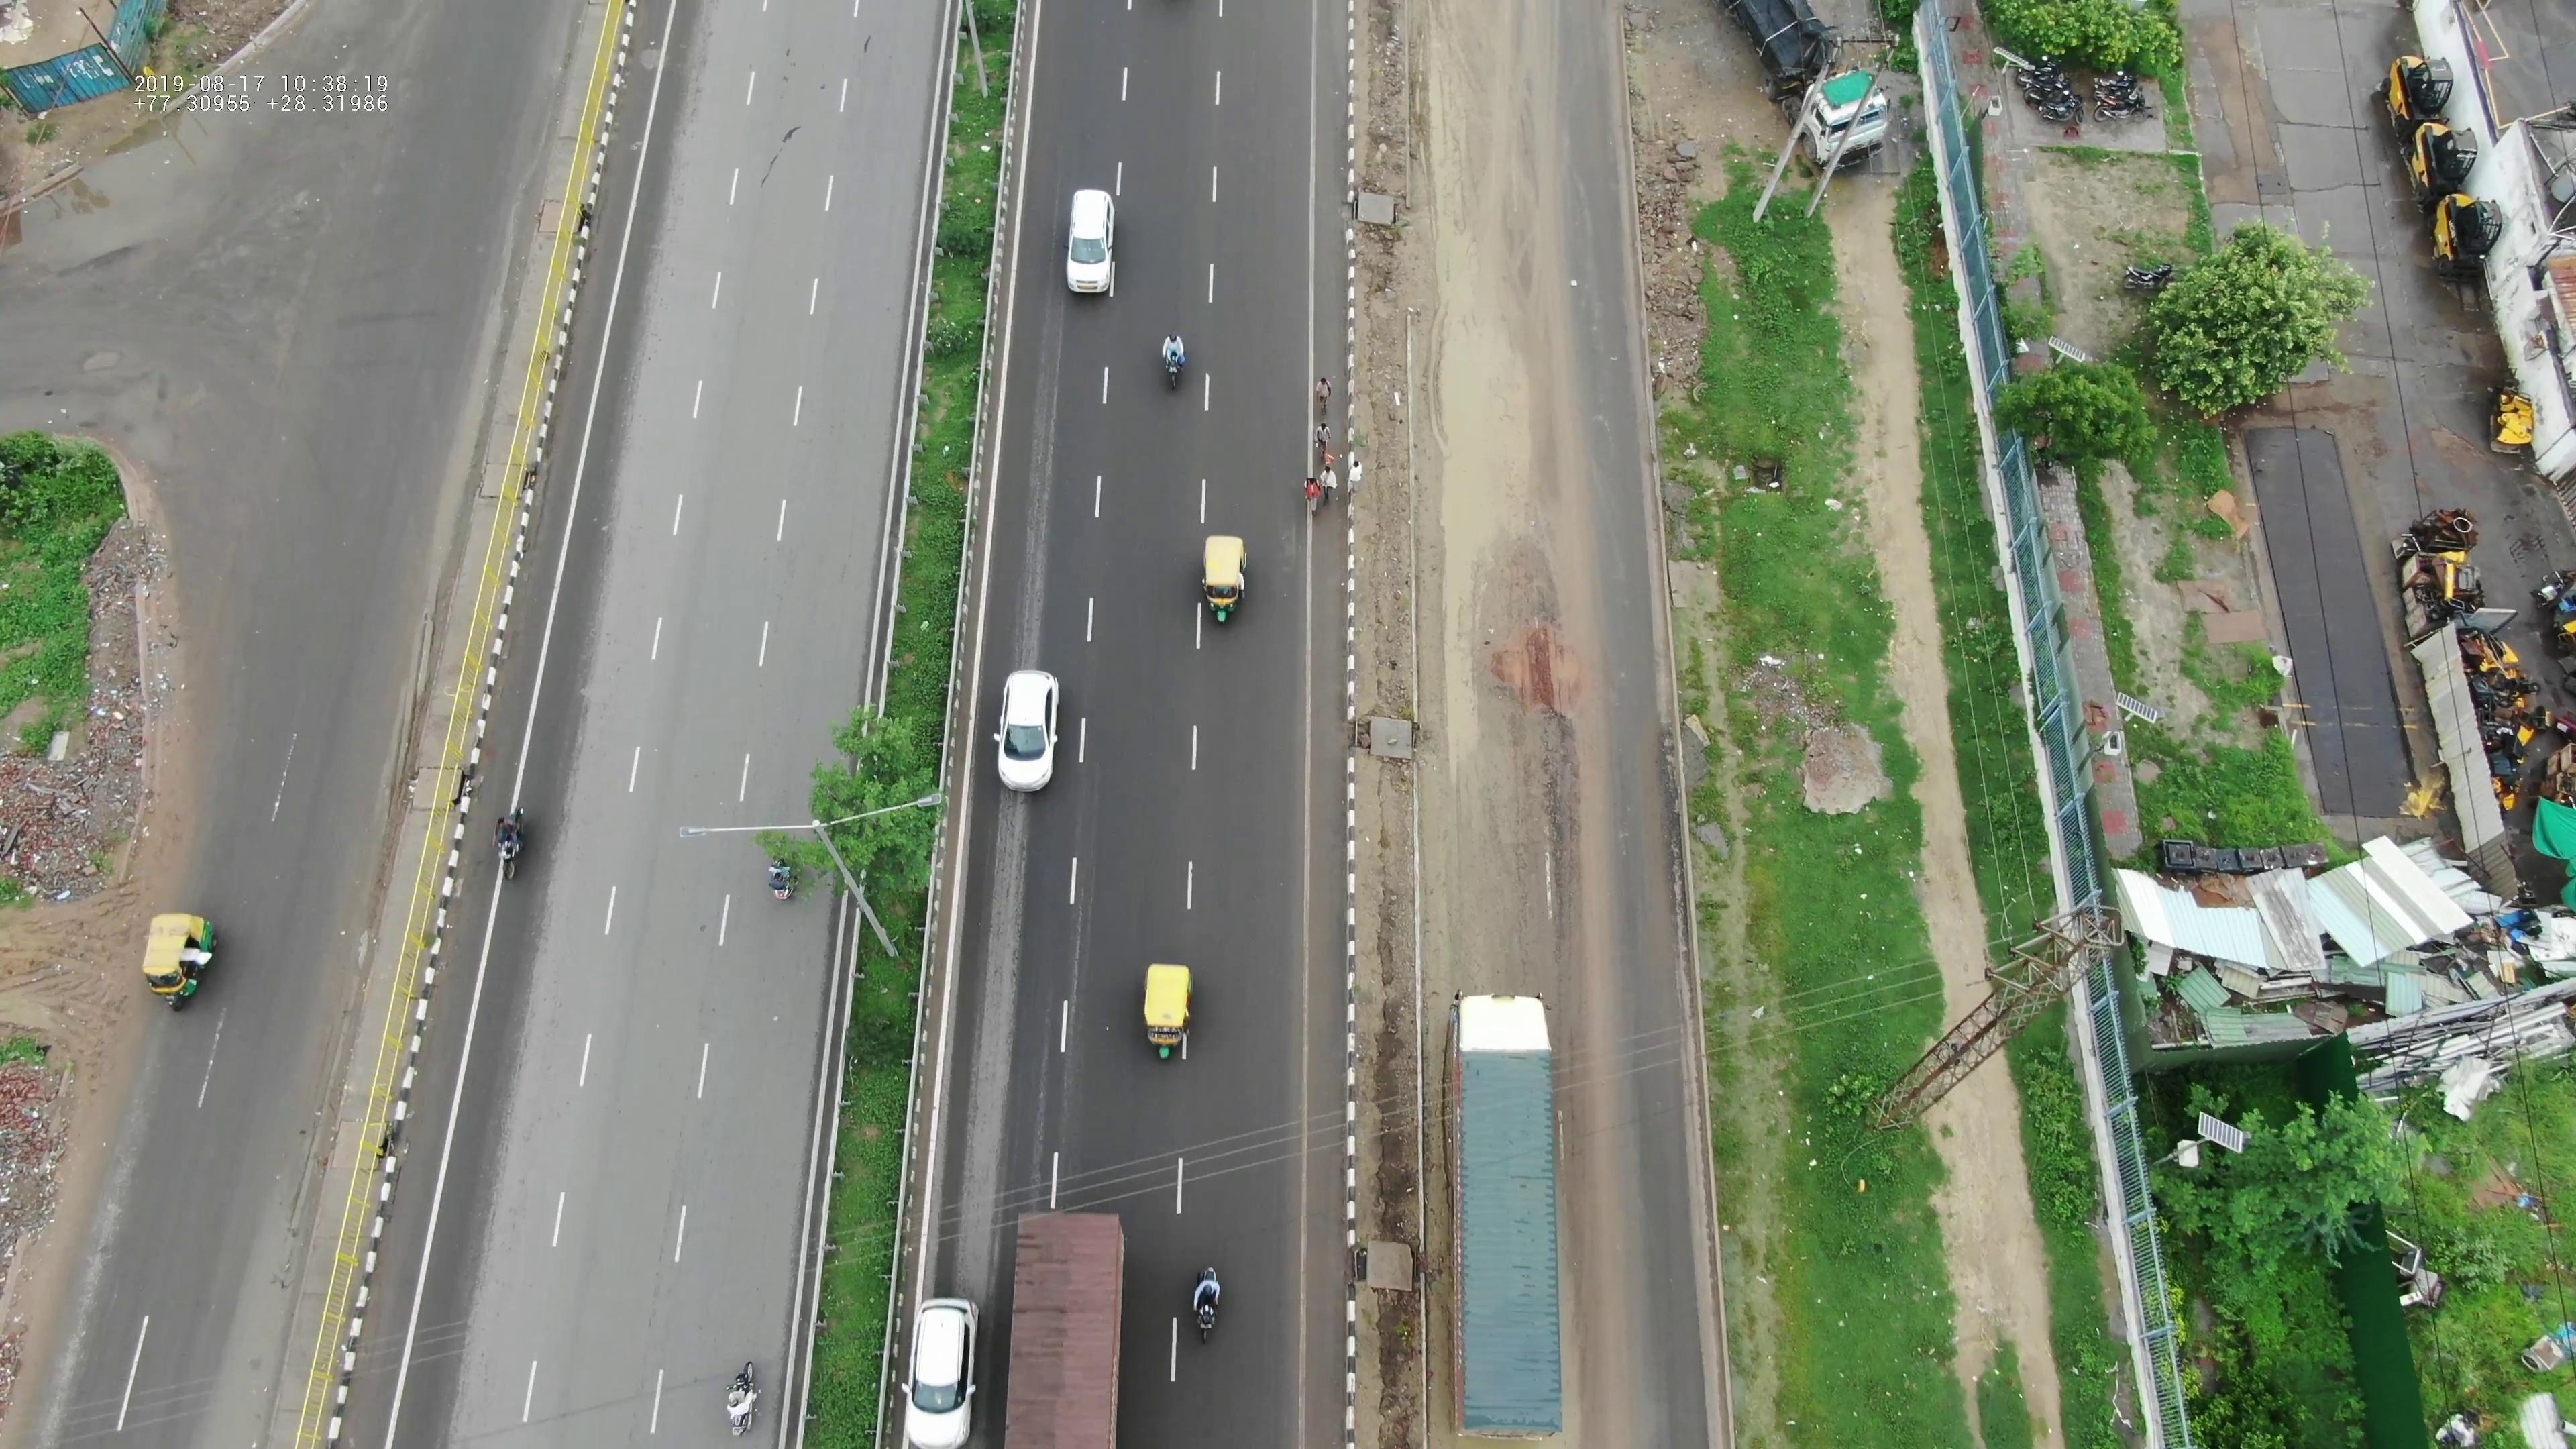Muddy_road: (1442, 603, 1571, 959), (1442, 209, 1541, 586), (1433, 2, 1546, 193)
